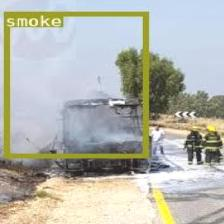smoke: (2, 11, 148, 156)
